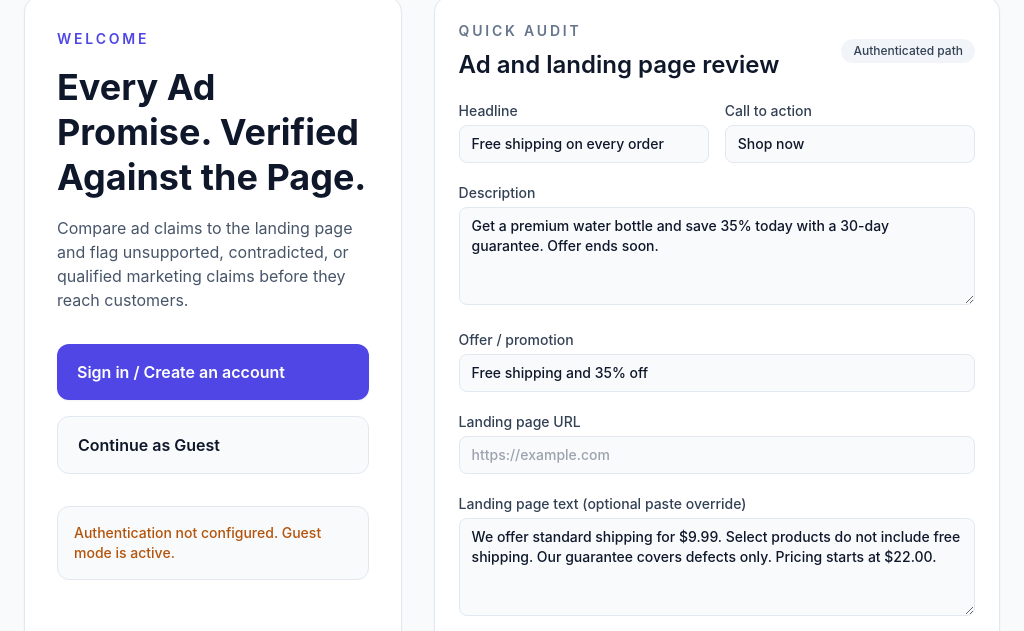
Test: App › renders a report after submitting a guest audit
Click the button "Continue as Guest". click: (213, 445)
box: [57,416,369,474]
(page scrolled)
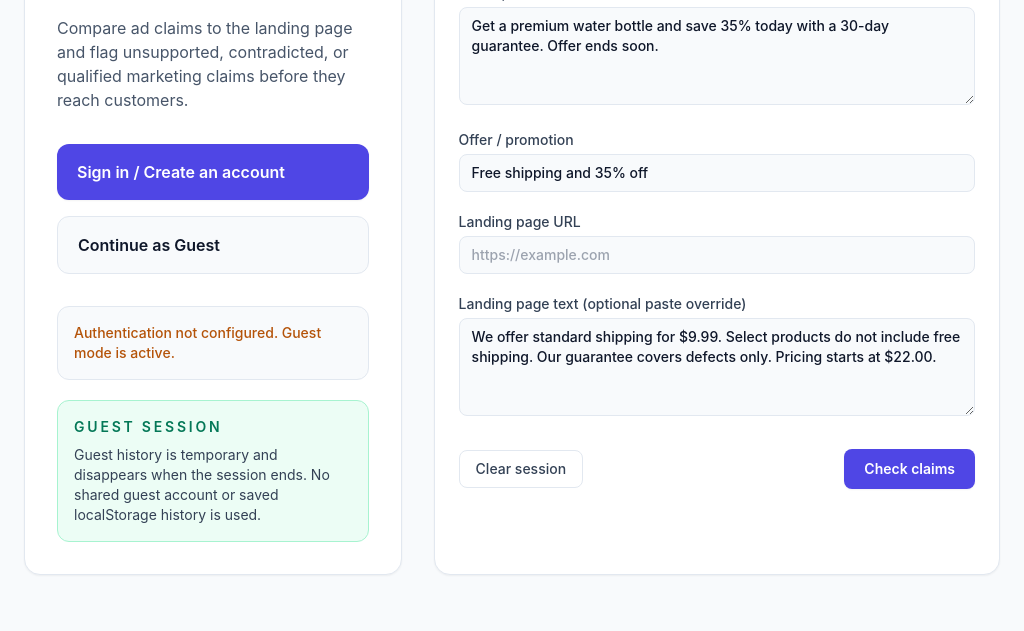
Click the button "Check claims". click: (910, 469)
box: [844,449,975,489]
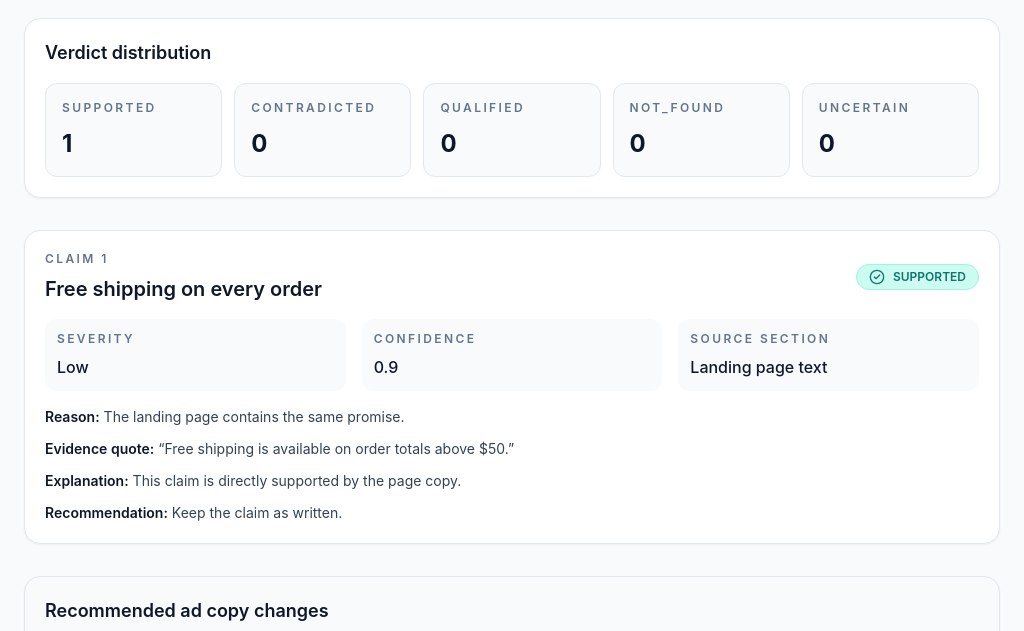
Expected: the text "SUPPORTED" is shown, [62,100,157,115]
Expected: the heading "Recommended ad copy changes" is shown, [45,600,328,621]
